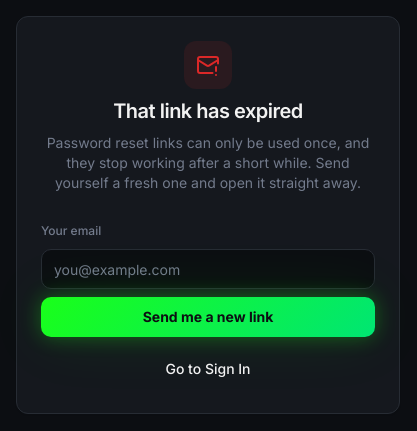
Scenario: a reset link the provider refused › offers a way to get a new link on the card, not a trip to sign-in
Type "lifter@example.com" into the field labelled "Your email" at [208, 269], box [41,249,375,289]
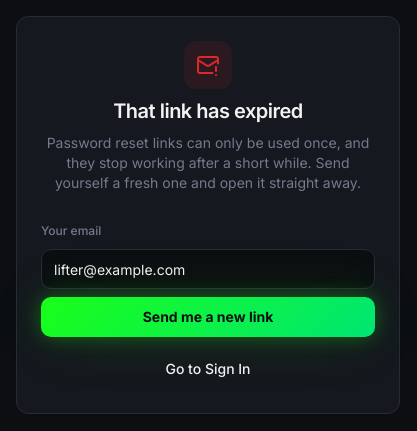
Click the button "Send me a new link" at [208, 317], box [41,297,375,337]
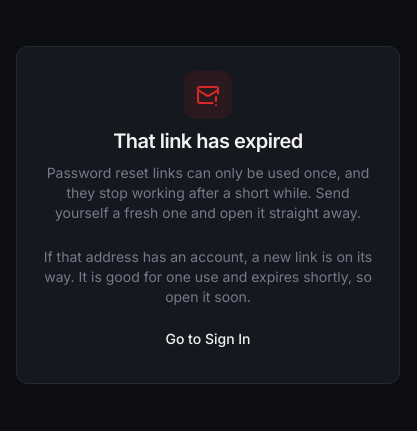
expect the text "If that address has an account" is shown: met, box [44,248,372,305]
